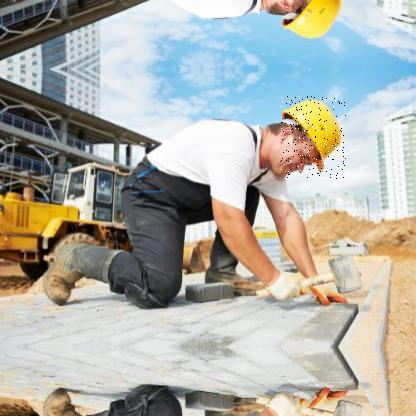safetyhelmet: (280, 96, 347, 180)
